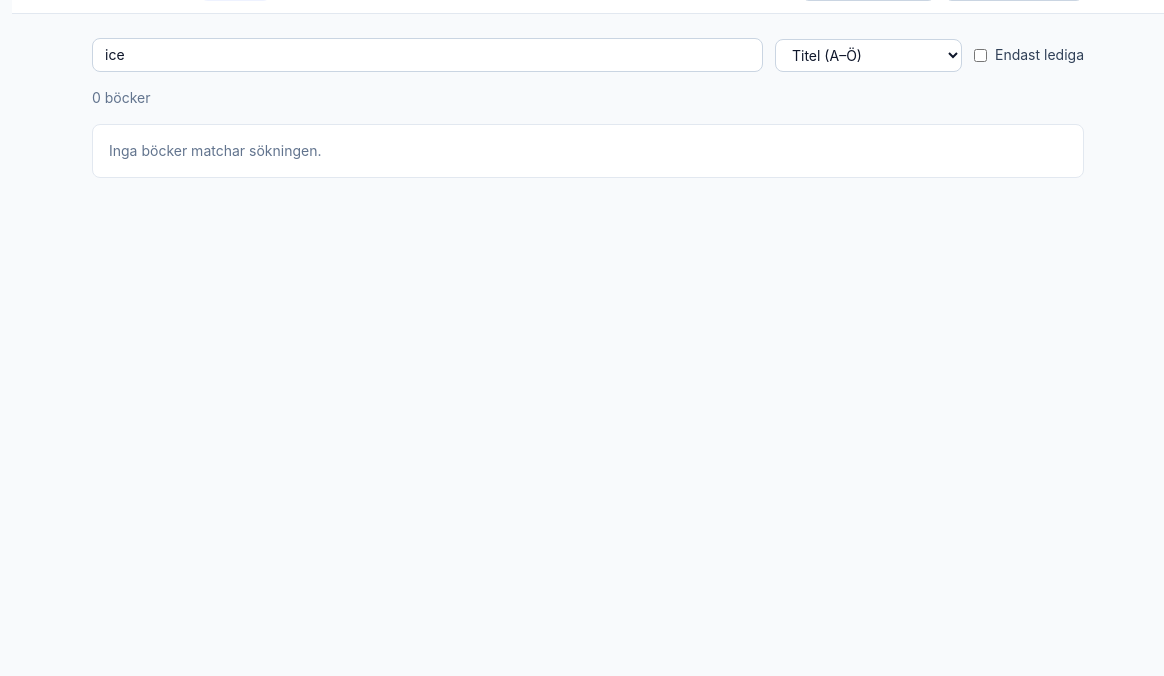
Scenario: BooksPage › sparar sökningen i URL:en och läser in den vid start
This screenshot has width=1164, height=676.
Step 1. Type "s" into the search field with placeholder "Sök på titel eller författare …" → (428, 55), box [92, 38, 763, 72]
(page scrolled)
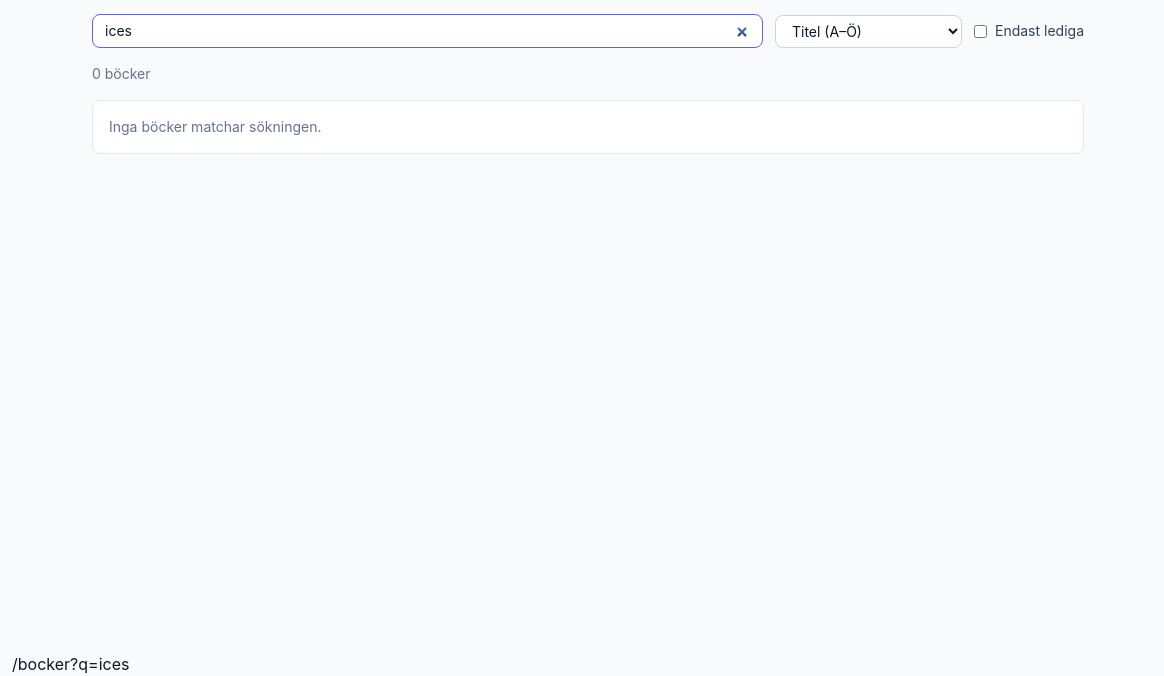
Check: the text with test id "location" reads "/bocker?q=ices", box [12, 654, 129, 674]
